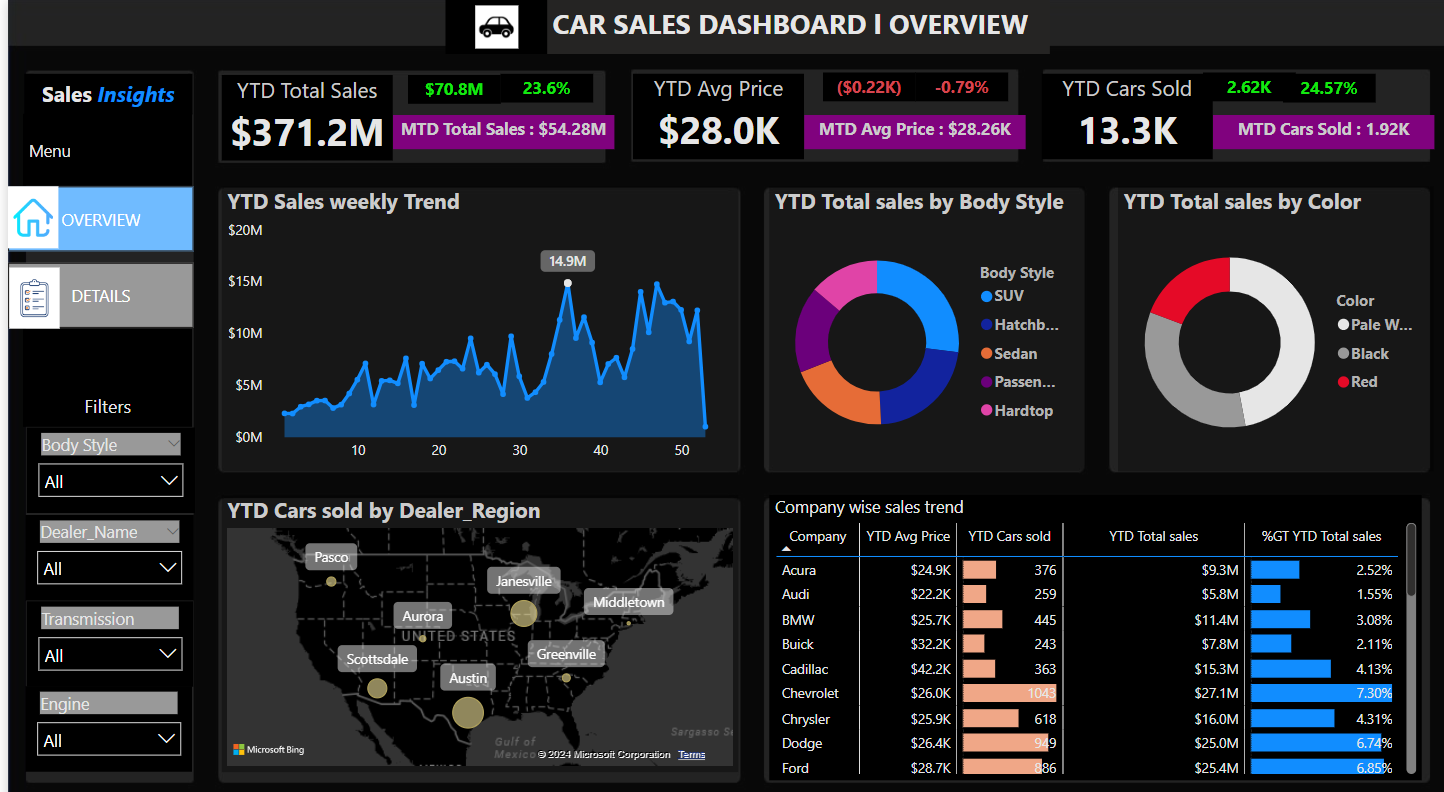

The dashboard page shown, as its layout file describes it:
{"tool":"powerbi","page":{"name":"OVERVIEW","canvas":[1280,720],"ordinal":0},"visuals":[{"type":"card","title":"YTD  Total Sales","fields":{"Values":["car_data.YTD Total sales"]},"box":[190.6,66.3,152,76],"z":0},{"type":"card","fields":{"Values":["car_data.Sales difference"]},"box":[355.8,66.3,82,25.3],"z":1000},{"type":"card","fields":{"Values":["car_data.YOY Sales Growth"]},"box":[437.8,65.1,82,25.3],"z":2000},{"type":"card","fields":{"Values":["car_data.MTD KPI"]},"box":[342.5,102.5,196.6,30.2],"z":3000},{"type":"card","title":"YTD Avg Price","fields":{"Values":["Calendar table.YTD Avg Price"]},"box":[556,65.1,152,76],"z":4000},{"type":"card","fields":{"Values":["car_data.Avg Price Diff"]},"box":[724.8,63.9,82,25.3],"z":5000},{"type":"card","fields":{"Values":["car_data.YOY Avg Price growth"]},"box":[806.8,63.9,82,25.3],"z":6000},{"type":"card","fields":{"Values":["car_data.MTD Avg price KPI"]},"box":[707.9,102.5,196.6,30.2],"z":7000},{"type":"card","title":"YTD Cars Sold","fields":{"Values":["car_data.YTD Cars sold"]},"box":[919,65.1,152,76],"z":8000},{"type":"card","fields":{"Values":["car_data.Cars Sold Diff"]},"box":[1062.5,63.9,82,25.3],"z":9000},{"type":"card","fields":{"Values":["car_data.YOY cars sold growth"]},"box":[1133.7,65.1,82,25.3],"z":10000},{"type":"card","fields":{"Values":["car_data.MTD cars sold KPI"]},"box":[1071,102.5,196.6,30.2],"z":11000},{"type":"areaChart","title":"YTD Sales weekly Trend","fields":{"Category":["Calendar table.Week"],"Y":["Sum(car_data.Price ($))","car_data.Max point"]},"box":[190.6,165.2,459.5,253.3],"z":12000},{"type":"donutChart","fields":{"Category":["car_data.Body Style"],"Y":["car_data.YTD Total sales"]},"box":[676.6,165.2,281,253.3],"z":13000},{"type":"donutChart","fields":{"Y":["car_data.YTD Total sales"],"Category":["car_data.Color"]},"box":[986.5,165.2,281,253.3],"z":14000},{"type":"map","fields":{"Size":["car_data.YTD Cars sold"],"Category":["car_data.Dealer_Region"]},"box":[190.6,440.2,459.5,246],"z":15000},{"type":"tableEx","title":"Company wise sales trend","fields":{"Values":["car_data.Company","car_data.YTD Avg Price","car_data.YTD Cars sold","car_data.YTD Total sales1","car_data.YTD Total sales"]},"box":[676.6,440.2,580.1,253.3],"z":16000},{"type":"textbox","box":[478.8,0,447.4,48.2],"z":17000},{"type":"slicer","fields":{"Values":["car_data.Body Style"]},"box":[16.9,379.9,149.5,76],"z":18000},{"type":"slicer","fields":{"Values":["car_data.Dealer_Name"]},"box":[15.7,458.3,149.5,76],"z":19000},{"type":"slicer","fields":{"Values":["car_data.Transmission"]},"box":[16.9,534.3,148.3,76],"z":20000},{"type":"slicer","fields":{"Values":["car_data.Engine"]},"box":[15.7,610.3,148.3,76],"z":21000},{"type":"textbox","box":[13.3,291.9,150.8,86.8],"z":22000},{"type":"textbox","box":[14.5,65.1,149.5,36.2],"z":22001},{"type":"textbox","box":[13.3,101.3,150.8,63.9],"z":22002},{"type":"pageNavigator","box":[0,165.2,165.2,126.6],"z":22003},{"type":"image","box":[0,165.2,44.6,55.5],"z":22004},{"type":"image","box":[1.2,237.6,44.6,54.3],"z":22005},{"type":"image","box":[388.3,0,90.5,48.2],"z":22006}]}

Visuals, with their boxes on the page's 1280x720 design canvas (x1, y1, x2, y2). These are canvas units, not pixel positions in the 1444x792 screenshot, which may show the page scaled, cropped or inside an application window:
"YTD  Total Sales" card: 191,66,343,142
card - car_data.Sales difference: 356,66,438,92
card - car_data.YOY Sales Growth: 438,65,520,90
card - car_data.MTD KPI: 342,102,539,133
"YTD Avg Price" card: 556,65,708,141
card - car_data.Avg Price Diff: 725,64,807,89
card - car_data.YOY Avg Price growth: 807,64,889,89
card - car_data.MTD Avg price KPI: 708,102,904,133
"YTD Cars Sold" card: 919,65,1071,141
card - car_data.Cars Sold Diff: 1062,64,1144,89
card - car_data.YOY cars sold growth: 1134,65,1216,90
card - car_data.MTD cars sold KPI: 1071,102,1268,133
"YTD Sales weekly Trend" areaChart: 191,165,650,418
donutChart - car_data.Body Style x car_data.YTD Total sales: 677,165,958,418
donutChart - car_data.YTD Total sales x car_data.Color: 986,165,1268,418
map - car_data.YTD Cars sold x car_data.Dealer_Region: 191,440,650,686
"Company wise sales trend" tableEx: 677,440,1257,694
textbox: 479,0,926,48
slicer - car_data.Body Style: 17,380,166,456
slicer - car_data.Dealer_Name: 16,458,165,534
slicer - car_data.Transmission: 17,534,165,610
slicer - car_data.Engine: 16,610,164,686
textbox: 13,292,164,379
textbox: 14,65,164,101
textbox: 13,101,164,165
pageNavigator: 0,165,165,292
image: 0,165,45,221
image: 1,238,46,292
image: 388,0,479,48
